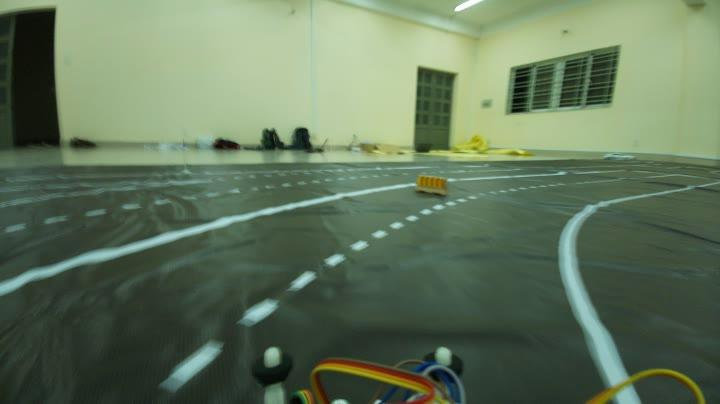roadblock: (414, 170, 447, 196)
